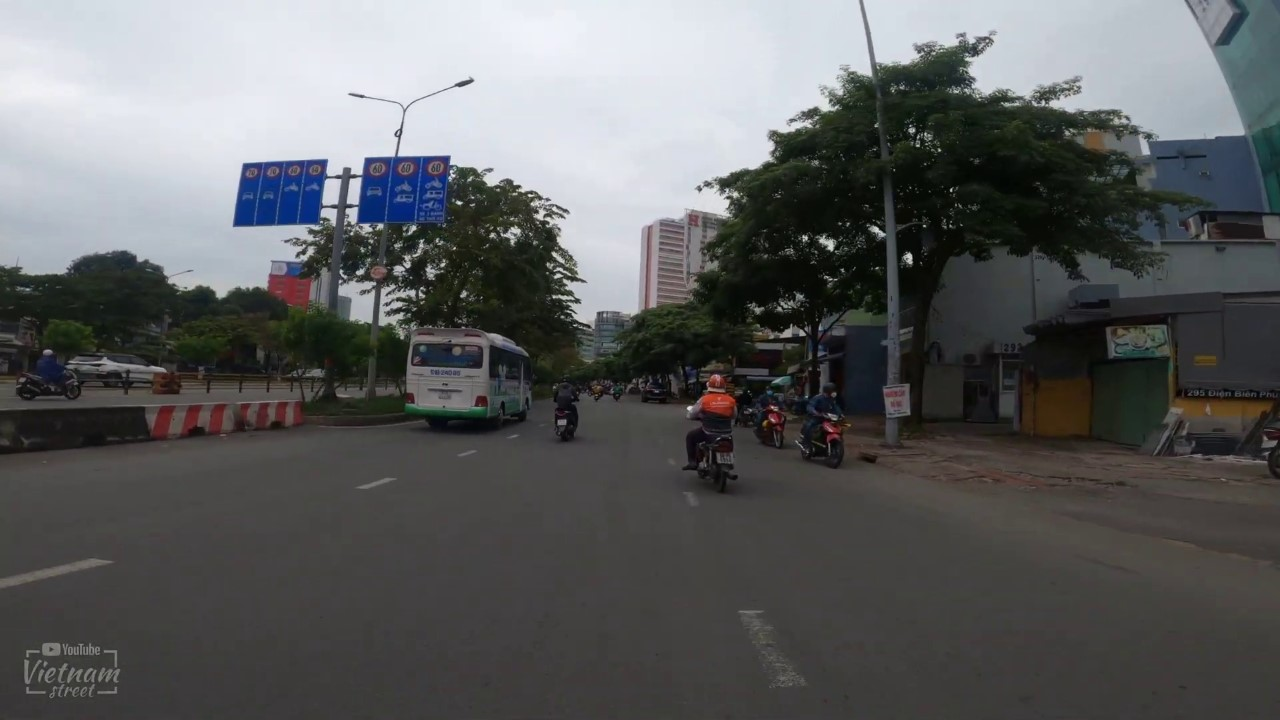gioi_han_60km: (366, 159, 388, 178), (395, 160, 418, 177), (426, 158, 446, 177), (307, 163, 322, 177), (286, 164, 302, 177)
